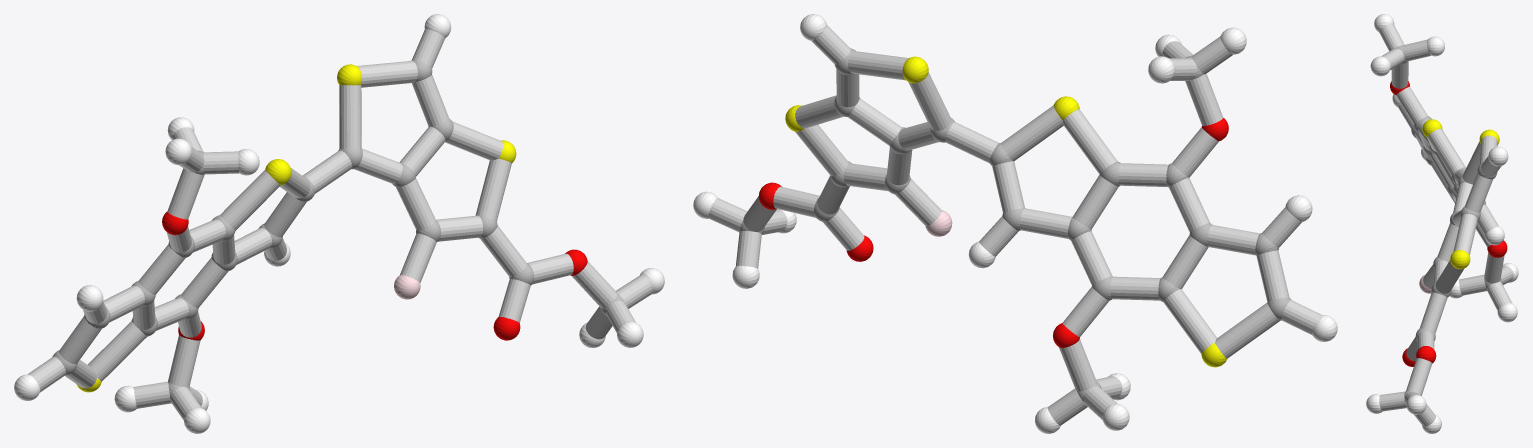
The model's file is color.glb.
3 views of the same model, side by side, from view 1: azimuth 30°, elevation 25°; view 2: azimuth 150°, elevation 25°; view 3: azimuth 270°, elevation 25° (orthographic). The views are drawn at different scales.
Parts seen in each view (by area): view 1: grp15205, grp8689, grp1, grp13395, grp7241; view 2: grp15205, grp8689, grp1, grp7241, grp13395; view 3: grp15205, grp8689, grp1, grp13395, grp7241.
Boxes of the visible parts, <box> form: grp15205: <box>27,29,652,420</box>; grp8689: <box>14,14,664,433</box>; grp1: <box>52,59,624,403</box>; grp13395: <box>162,211,587,340</box>; grp7241: <box>76,64,516,392</box>; grp15205: <box>708,25,1321,425</box>; grp8689: <box>693,14,1337,433</box>; grp1: <box>739,48,1291,401</box>; grp7241: <box>785,56,1227,367</box>; grp13395: <box>758,118,1228,347</box>; grp15205: <box>1379,23,1513,426</box>; grp8689: <box>1366,14,1518,433</box>; grp1: <box>1395,45,1501,406</box>; grp13395: <box>1390,81,1507,366</box>; grp7241: <box>1422,119,1499,269</box>.
Size of the model in its own units: 16.51 by 8.9 by 4.55.
